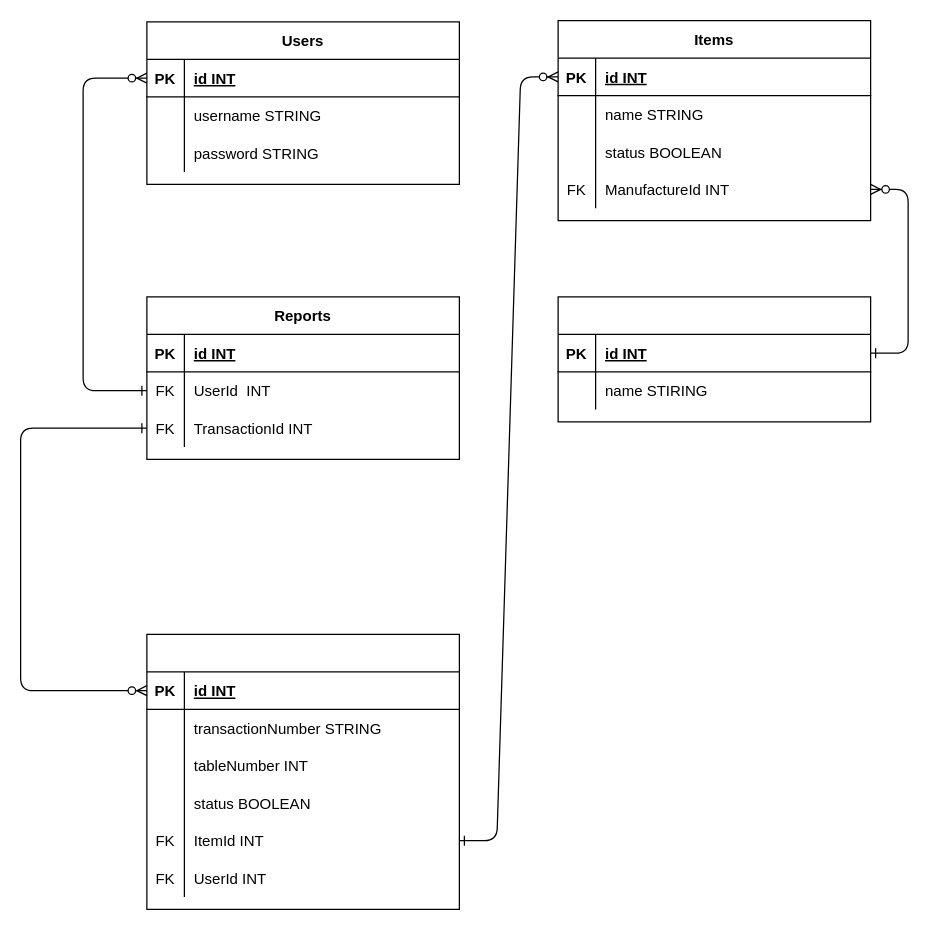
The diagram is 929 pixels wide and 930 high, and some of its shapes have lost their labels. The box of each missing label's shape, as (x1, y1, x2, y2) in pixels:
Manufactures: (557, 296, 871, 422)
Transactions: (146, 633, 459, 909)
